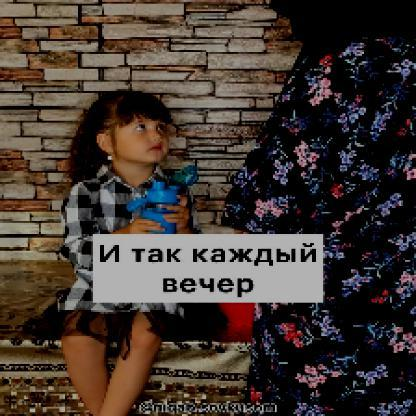child: (51, 88, 230, 415)
